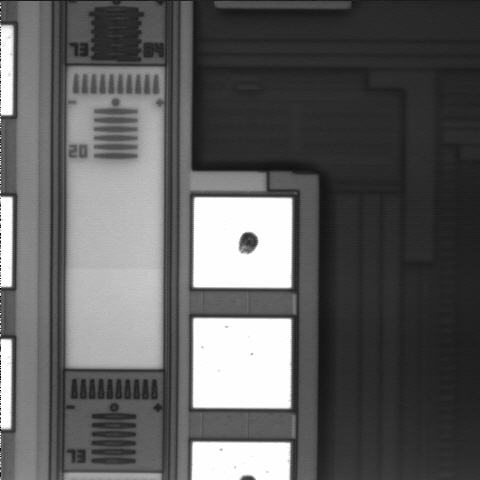pad: (193, 197, 292, 288), (193, 318, 291, 408)
